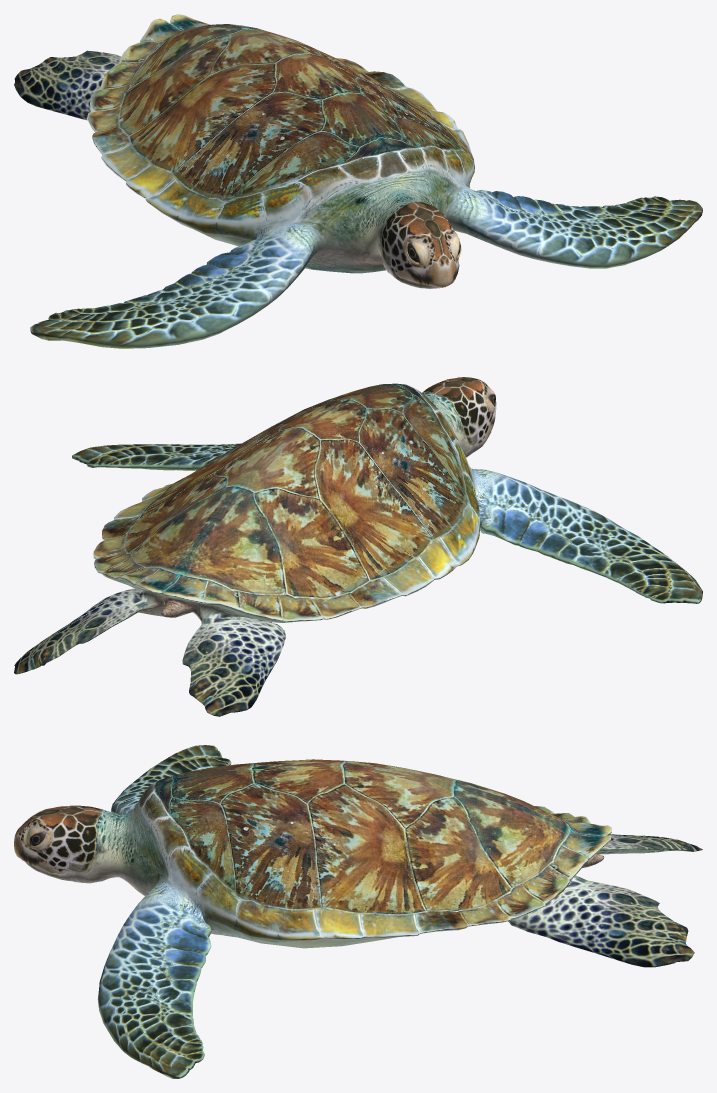
File: tortuga.fbx
The picture shows the model from 3 angles, top to bottom: view 1: azimuth 30°, elevation 25°; view 2: azimuth 150°, elevation 25°; view 3: azimuth 270°, elevation 25°; orthographic projection. The views are drawn at different scales.
Parts seen in each view (by area): view 1: Object_0; view 2: Object_0; view 3: Object_0.
Boxes of the visible parts, x1=… form: Object_0: x1=14, y1=14, x2=702, y2=348; Object_0: x1=14, y1=377, x2=702, y2=716; Object_0: x1=14, y1=745, x2=702, y2=1078.
Bounding box in the file's own units: 106 × 27.48 × 100.
Materials: 1 (1 with a texture image).
